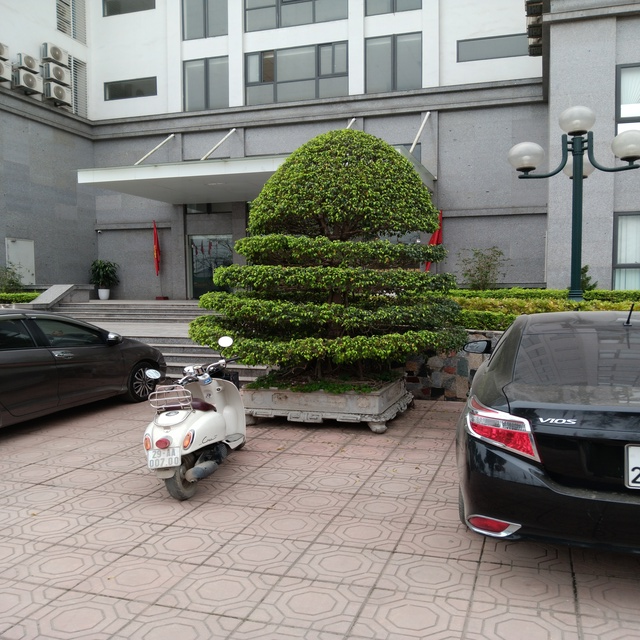caycanh: (216, 126, 450, 446)
